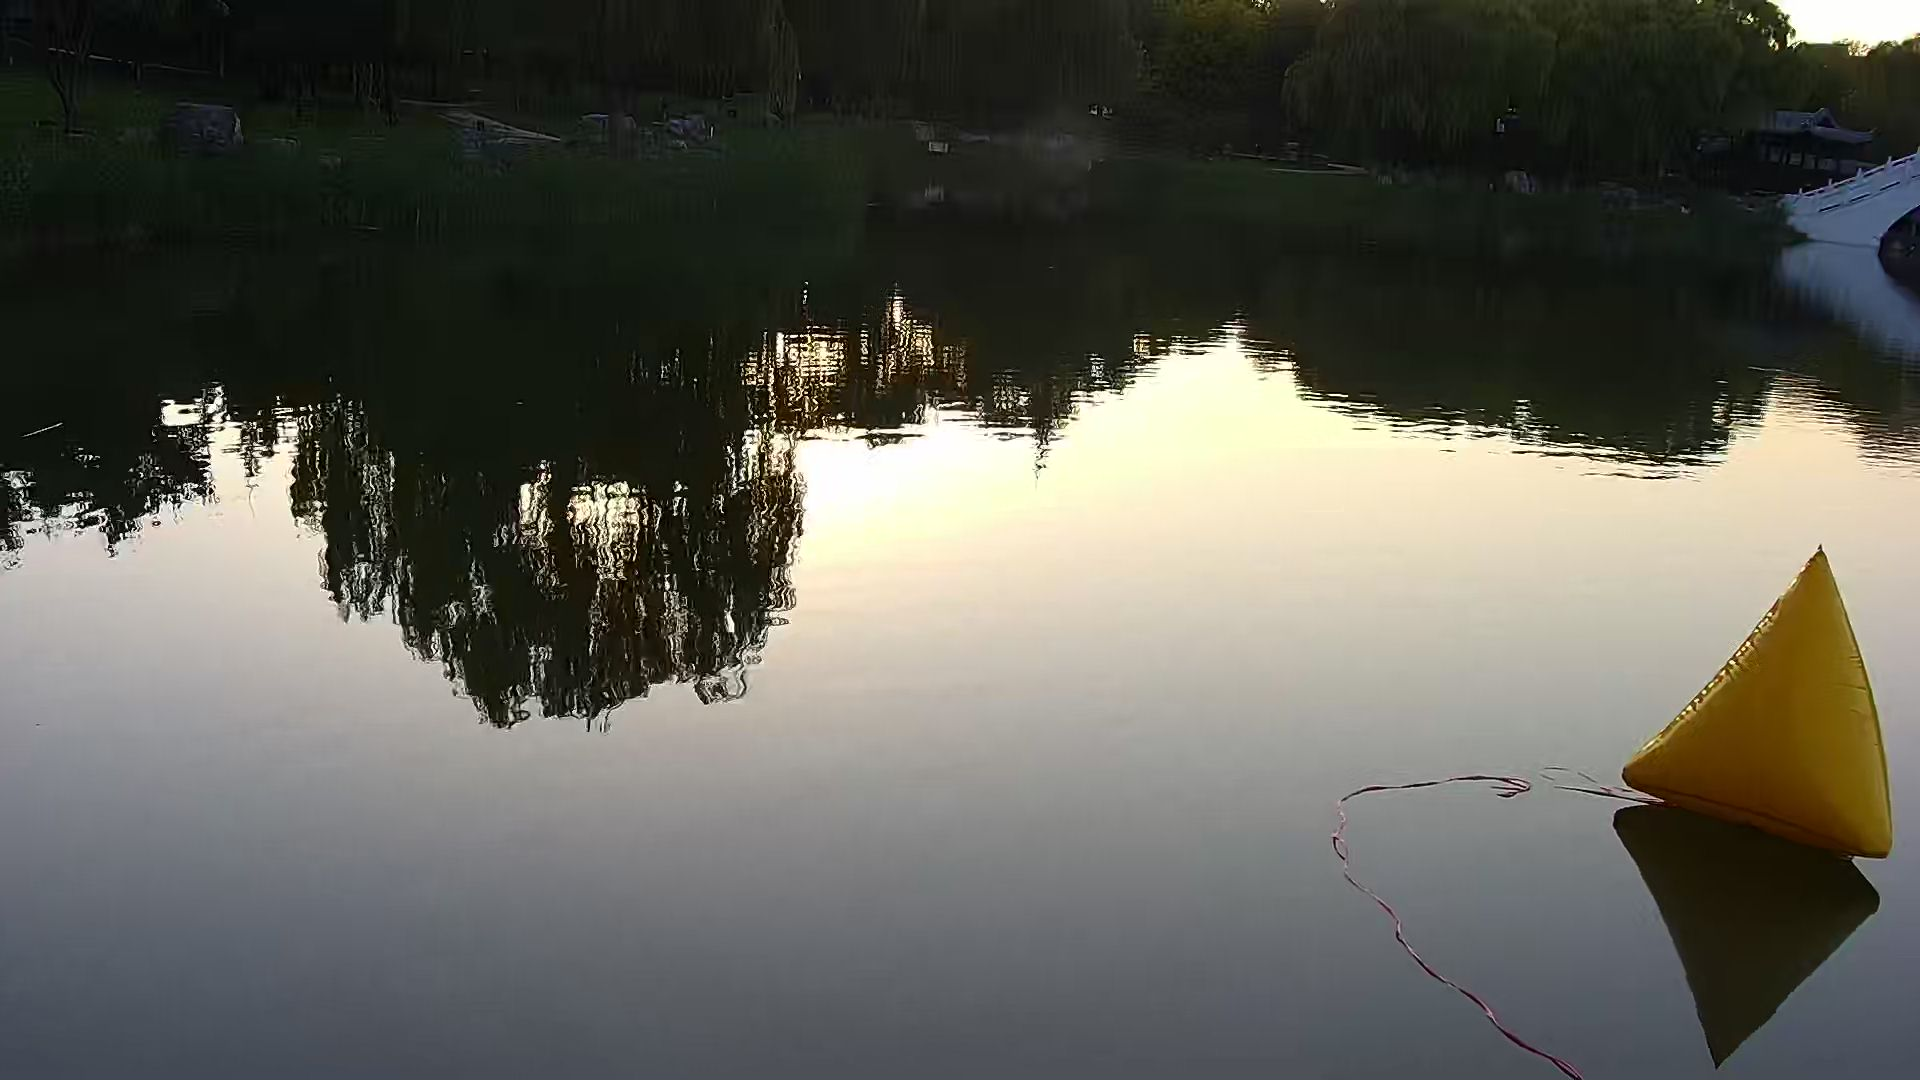bridge: (1788, 138, 1920, 248)
rubbish: (1623, 547, 1898, 866)
